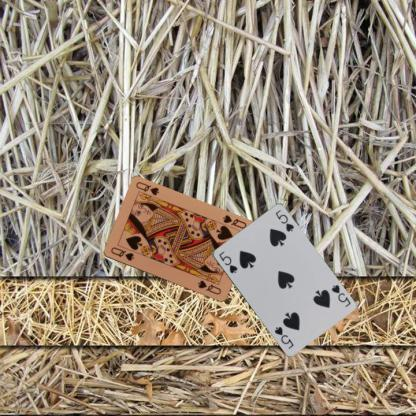5s: (329, 282, 352, 308), (216, 249, 239, 274)
Qs: (108, 244, 135, 262), (220, 212, 247, 230)
